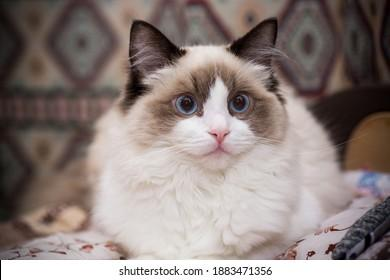ragdoll: (114, 2, 300, 201)
